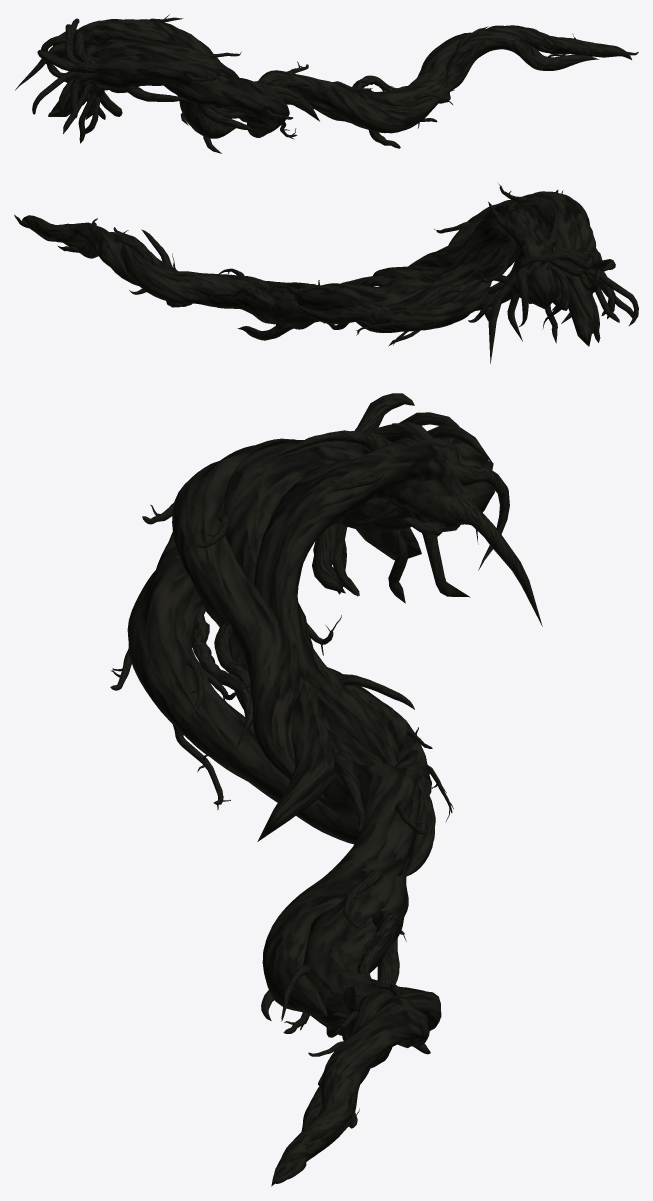
3 views of the same model, one above another, from view 1: azimuth 30°, elevation 25°; view 2: azimuth 150°, elevation 25°; view 3: azimuth 270°, elevation 25° (orthographic). The views are drawn at different scales.
Visible parts, largest first — view 1: SM_SwampVines_Combined_01_LOD0; view 2: SM_SwampVines_Combined_01_LOD0; view 3: SM_SwampVines_Combined_01_LOD0.
Part boxes in pixels (box(x1,y1,x2,y2)): SM_SwampVines_Combined_01_LOD0: box(15, 14, 638, 153); SM_SwampVines_Combined_01_LOD0: box(14, 183, 638, 363); SM_SwampVines_Combined_01_LOD0: box(110, 393, 542, 1186).
Bounding box in the file's own units: 46.16 × 12.71 × 14.8.
1 material, 1 textured.
